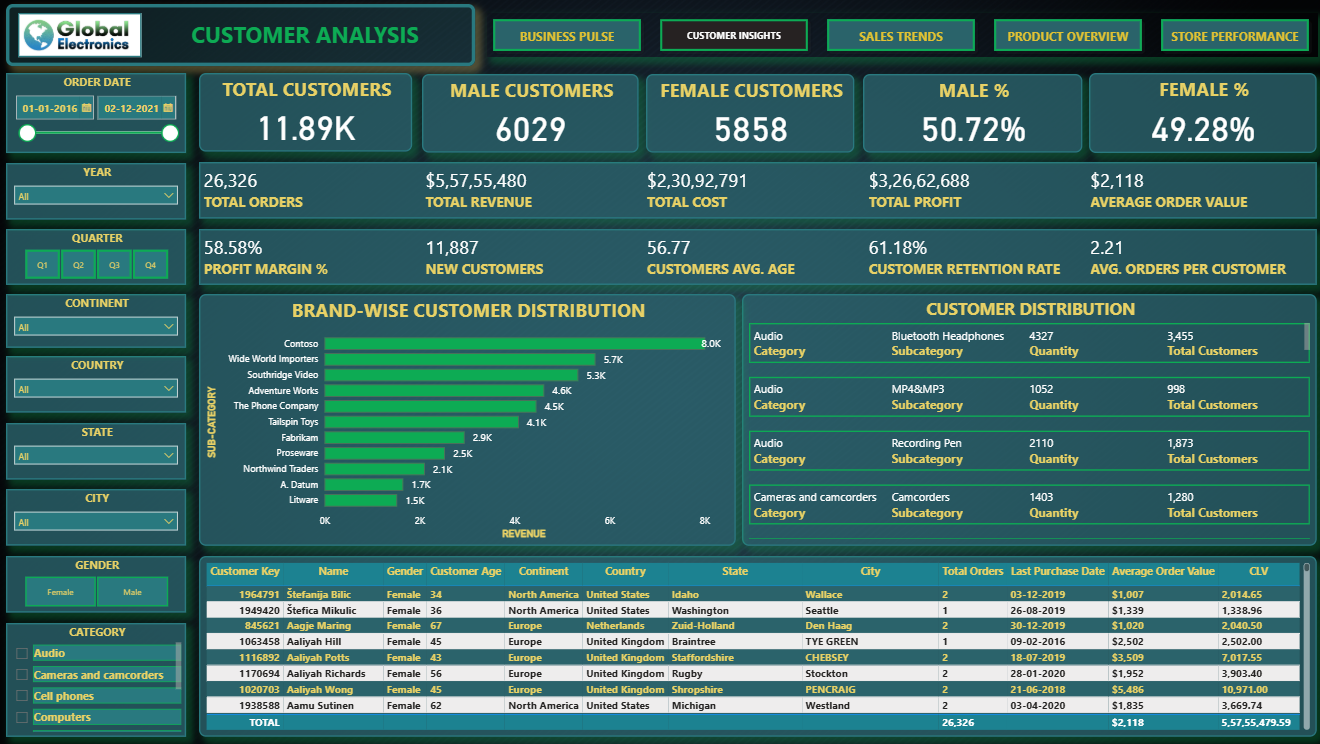

This screenshot's page, from the dashboard's own definition file:
{"tool":"powerbi","page":{"name":"CUSTOMER INSIGHTS","canvas":[1920,1080],"ordinal":1},"visuals":[{"type":"shape","title":"title text box","box":[10.7,6.7,679.7,90],"z":0},{"type":"textbox","box":[205.5,22.8,475.5,59.1],"z":1000},{"type":"image","title":"Global electronics icon","box":[26.9,20.1,178.7,64.5],"z":2000},{"type":"slicer","title":"COUNTRY","fields":{"Values":["customers.Country"]},"box":[10.7,517,260.6,81.9],"z":3000},{"type":"slicer","title":"CONTINENT","fields":{"Values":["customers.Continent"]},"box":[10.7,427.2,260.6,77.9],"z":4000},{"type":"slicer","title":"STATE","fields":{"Values":["customers.State"]},"box":[10.7,614,260.6,81.9],"z":5000},{"type":"slicer","title":"CITY","fields":{"Values":["customers.City"]},"box":[10.7,710,260.6,81.9],"z":6000},{"type":"slicer","title":"GENDER","fields":{"Values":["customers.Gender"]},"box":[10.7,807,260.6,81.9],"z":7000},{"type":"slicer","title":"ORDER DATE","fields":{"Values":["Sales.Order Date"]},"box":[10.7,107.5,260.6,115.5],"z":8000},{"type":"slicer","title":"CATEGORY","fields":{"Values":["Products.Category"]},"box":[10.7,904,260.6,165.2],"z":9000},{"type":"slicer","title":"QUARTER","fields":{"Values":["Dim_Date.Quarter"]},"box":[10.7,333.1,260.6,80.6],"z":10000},{"type":"slicer","title":"YEAR","fields":{"Values":["Dim_Date.Year"]},"box":[10.7,237,260.6,81.9],"z":11000},{"type":"card","title":"TOTAL CUSTOMERS","fields":{"Values":["Customer Analysis.Total Customers"]},"box":[290.1,107.5,309,114.2],"z":12000},{"type":"multiRowCard","fields":{"Values":["Financial Analysis.Total Orders","Financial Analysis.Total Revenue","Financial Analysis.Total Cost","Financial Analysis.Total Profit","Financial Analysis.Average Order Value"]},"box":[290.1,236.4,1620,81.9],"z":13000},{"type":"card","title":"MALE CUSTOMERS","fields":{"Values":["Customer Analysis.Male Customers"]},"box":[612.5,108.8,314.3,114.2],"z":14000},{"type":"card","title":"FEMALE CUSTOMERS","fields":{"Values":["Customer Analysis.Female Customers"]},"box":[937.6,108.8,302.2,114.2],"z":15000},{"type":"card","title":"MALE %","fields":{"Values":["Customer Analysis.% Male"]},"box":[1251.9,108.8,318.4,114.2],"z":16000},{"type":"card","title":"FEMALE %","fields":{"Values":["Customer Analysis.% Female"]},"box":[1579.7,107.5,330.4,115.5],"z":17000},{"type":"multiRowCard","fields":{"Values":["Product Analysis.Profit Margin %","Customer Analysis.New Customers","Customer Analysis.Avg Age","Customer Analysis.Customer Retention Rate","Customer Analysis.Orders per Customer"]},"box":[290.1,333.1,1620,80.6],"z":18000},{"type":"tableEx","fields":{"Values":["customers.CustomerKey","customers.Name","customers.Gender","customers.Customer Age","customers.Continent","customers.Country","customers.State","customers.City","Financial Analysis.Total Orders","Customer Analysis.Last Purchase Date","Financial Analysis.Average Order Value","Customer Analysis.CLV"]},"box":[290.1,807.3,1620,261.9],"z":19000},{"type":"multiRowCard","title":"CUSTOMER DISTRIBUTION","fields":{"Values":["Products.Category","Products.Subcategory","Sales.Quantity","Customer Analysis.Total Customers"]},"box":[1077.3,427.2,832.8,365.4],"z":20000},{"type":"barChart","title":"BRAND-WISE CUSTOMER DISTRIBUTION","fields":{"Category":["Products.Brand"],"Y":["Customer Analysis.Total Customers"]},"box":[290.1,427.2,777.8,365.4],"z":21000},{"type":"pageNavigator","box":[706.6,20.1,1203.6,64.5],"z":21001}]}

Visuals, with their boxes in screenshot pixels (x1, y1, x2, y2), scaled from the page's 1920x1080 canvas onto the 1320x744 screenshot:
"title text box" shape: 7/5/475/67
textbox: 141/16/468/56
"Global electronics icon" image: 18/14/141/58
"COUNTRY" slicer: 7/356/187/413
"CONTINENT" slicer: 7/294/187/348
"STATE" slicer: 7/423/187/479
"CITY" slicer: 7/489/187/546
"GENDER" slicer: 7/556/187/612
"ORDER DATE" slicer: 7/74/187/154
"CATEGORY" slicer: 7/623/187/737
"QUARTER" slicer: 7/229/187/285
"YEAR" slicer: 7/163/187/220
"TOTAL CUSTOMERS" card: 199/74/412/153
multiRowCard - Financial Analysis.Total Orders x Financial Analysis.Total Revenue: 199/163/1313/219
"MALE CUSTOMERS" card: 421/75/637/154
"FEMALE CUSTOMERS" card: 645/75/852/154
"MALE %" card: 861/75/1080/154
"FEMALE %" card: 1086/74/1313/154
multiRowCard - Product Analysis.Profit Margin % x Customer Analysis.New Customers: 199/229/1313/285
tableEx - customers.CustomerKey x customers.Name: 199/556/1313/737
"CUSTOMER DISTRIBUTION" multiRowCard: 741/294/1313/546
"BRAND-WISE CUSTOMER DISTRIBUTION" barChart: 199/294/734/546
pageNavigator: 486/14/1313/58
